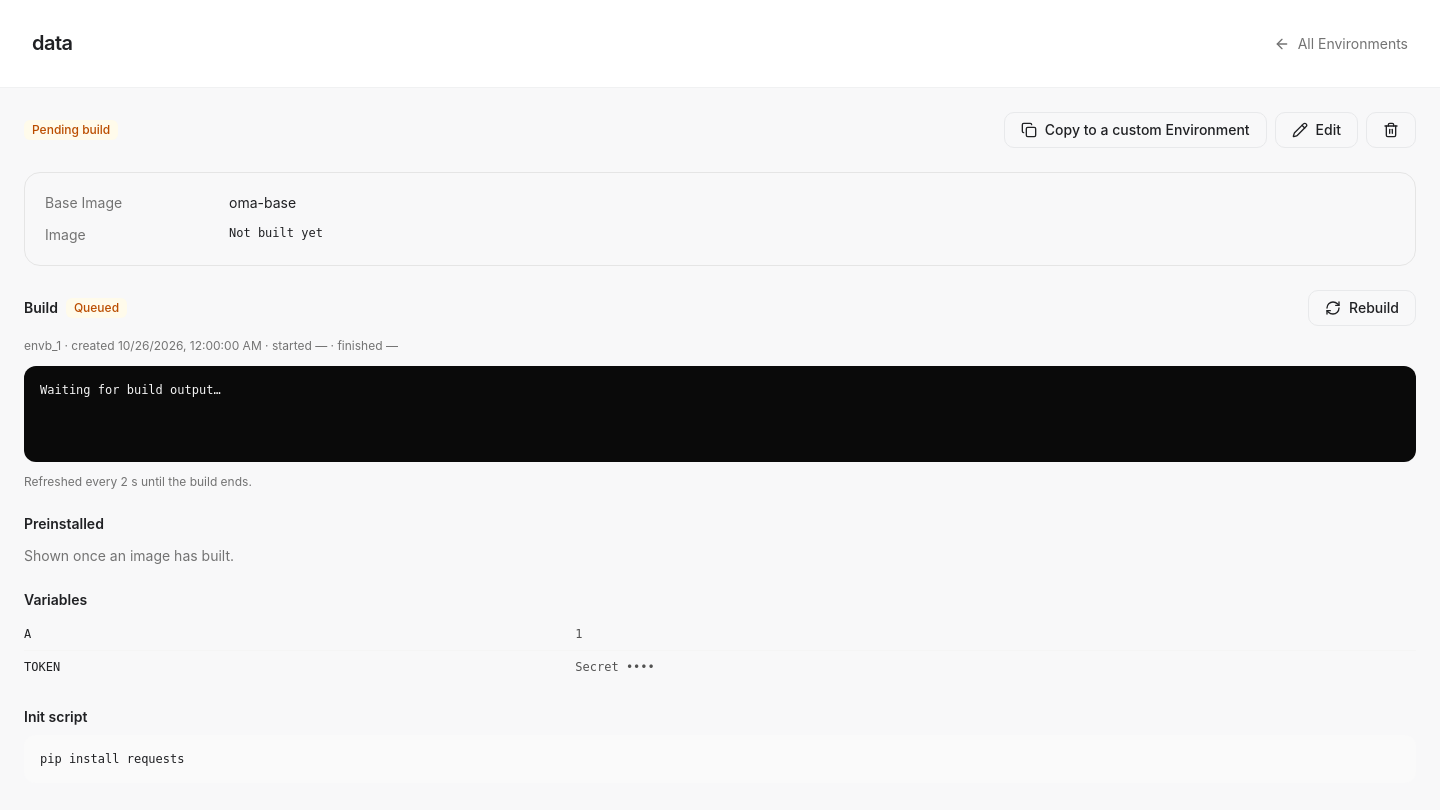
it: shows secrets by name only and keeps a stored secret when its field is left blank
Expected: the text "Secret ••••" is shown, x1=575 y1=650 x2=1416 y2=683
Expected: the text "pip install requests" is shown, x1=24 y1=735 x2=1416 y2=783
Click the button "Edit": (1316, 130) x1=1275 y1=112 x2=1358 y2=148
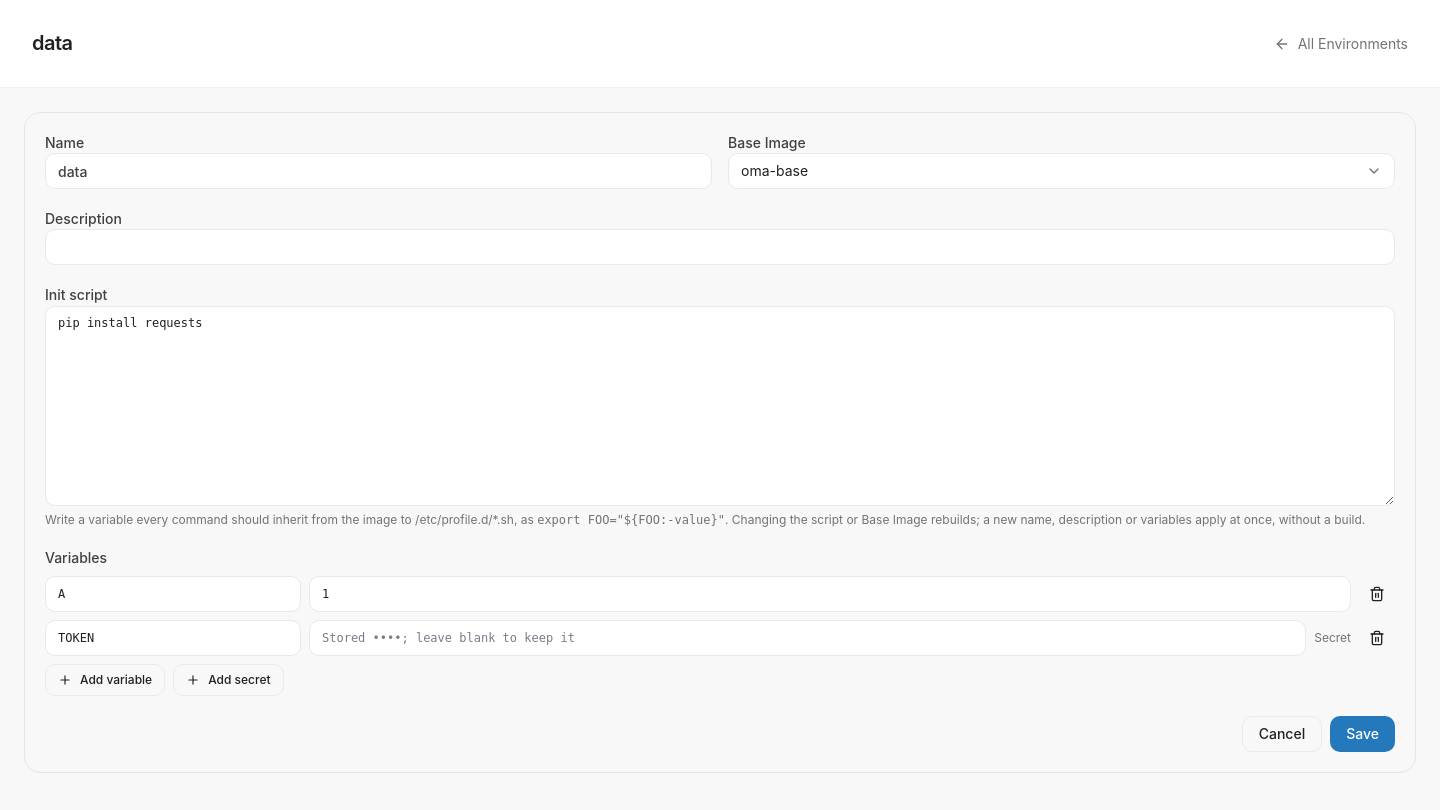
Expected: the password field named "Value of TOKEN" is empty, x1=309 y1=620 x2=1306 y2=656
Replace the text in the field named "Value of A" with "2": (830, 594) x1=309 y1=576 x2=1351 y2=612
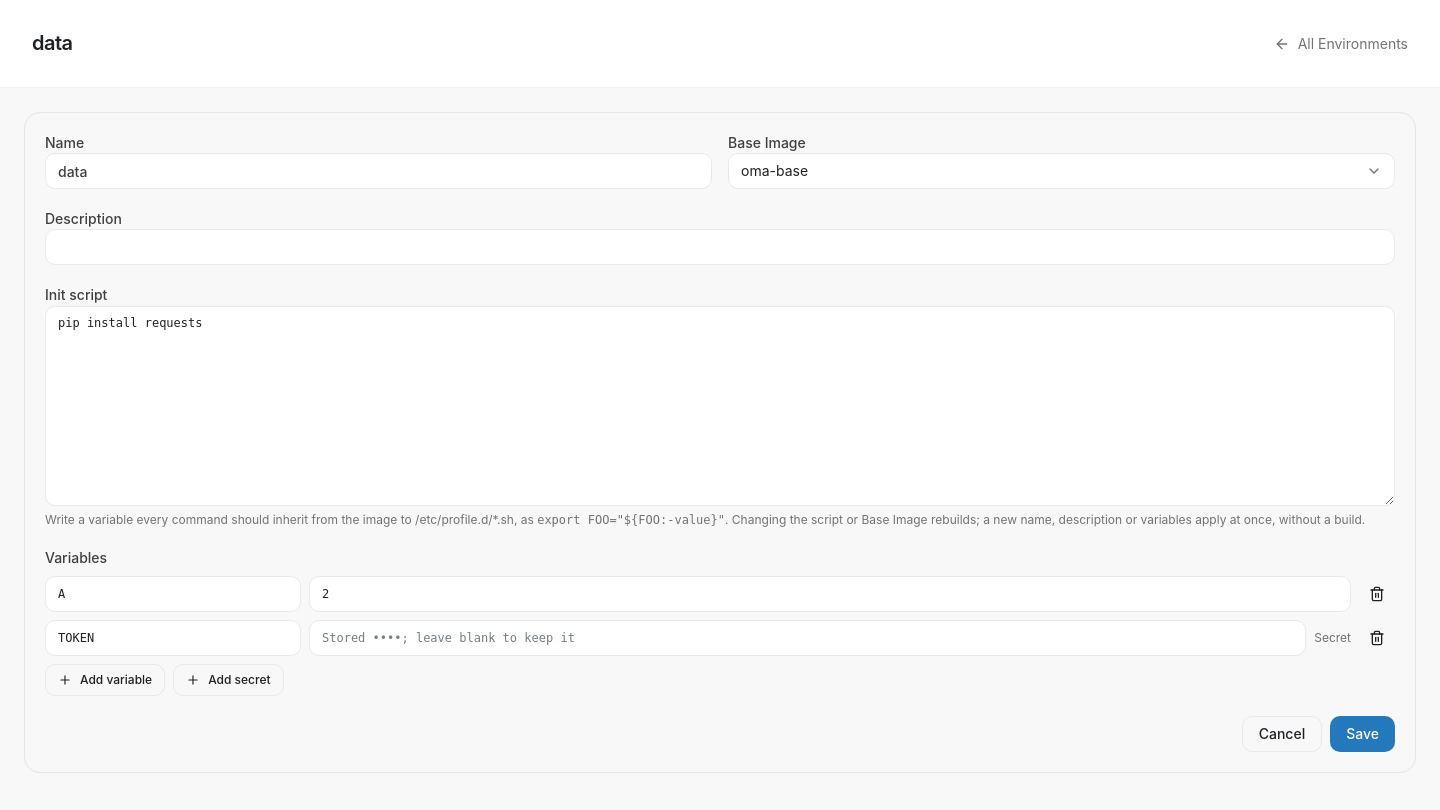
Click the button "Save": (1363, 734) x1=1330 y1=716 x2=1395 y2=752
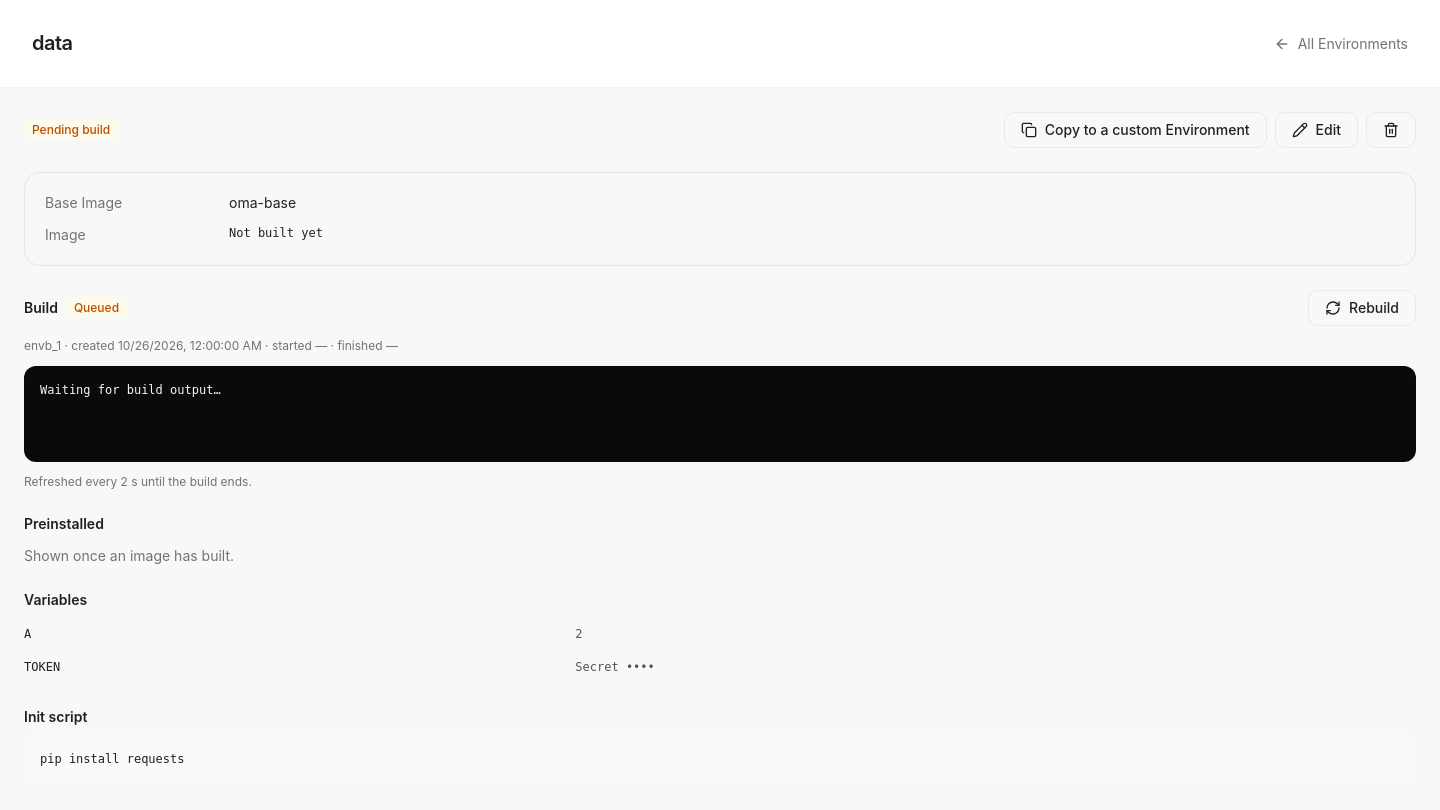
Expected: the button "Edit" is shown, x1=1275 y1=112 x2=1358 y2=148
